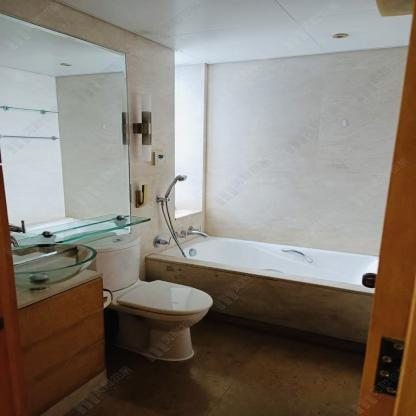Bathtub: (145, 233, 379, 354)
Faucet: (8, 219, 24, 247)
Toilet: (77, 232, 212, 360)
Toilet Sink: (12, 242, 98, 288)
